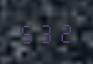five: (18, 20, 35, 44)
three: (37, 20, 54, 43)
two: (55, 19, 72, 43)
